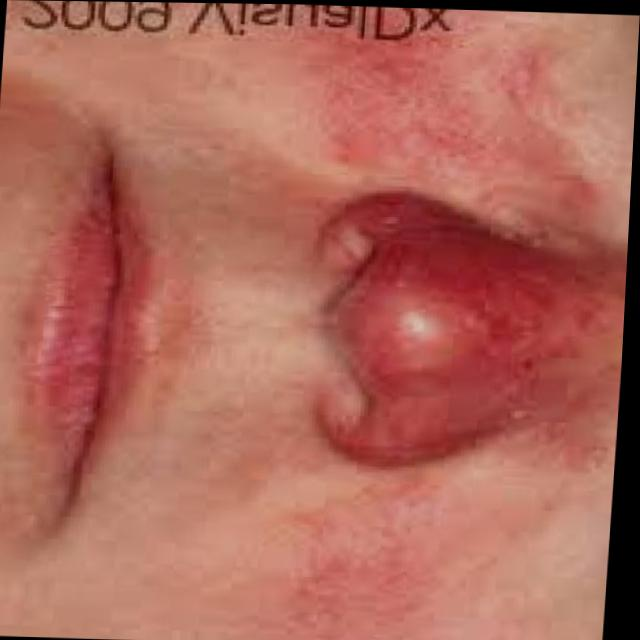Rosacea: (346, 194, 601, 468), (307, 20, 603, 221), (225, 472, 493, 640)
